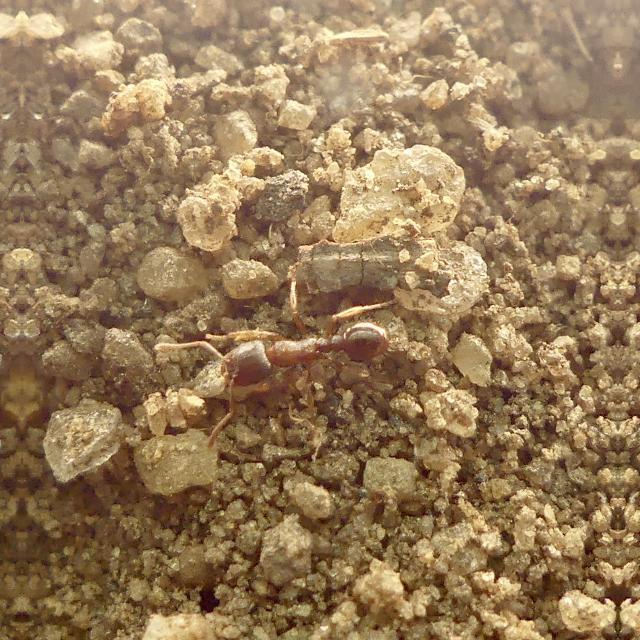Tetramorium: (188, 294, 404, 402)
